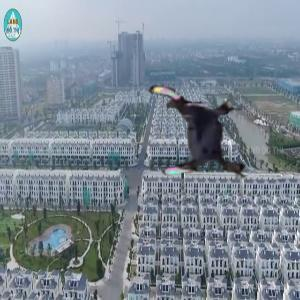drone: (142, 76, 258, 192)
